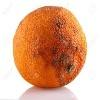Orange Rotten: (12, 4, 90, 90)
